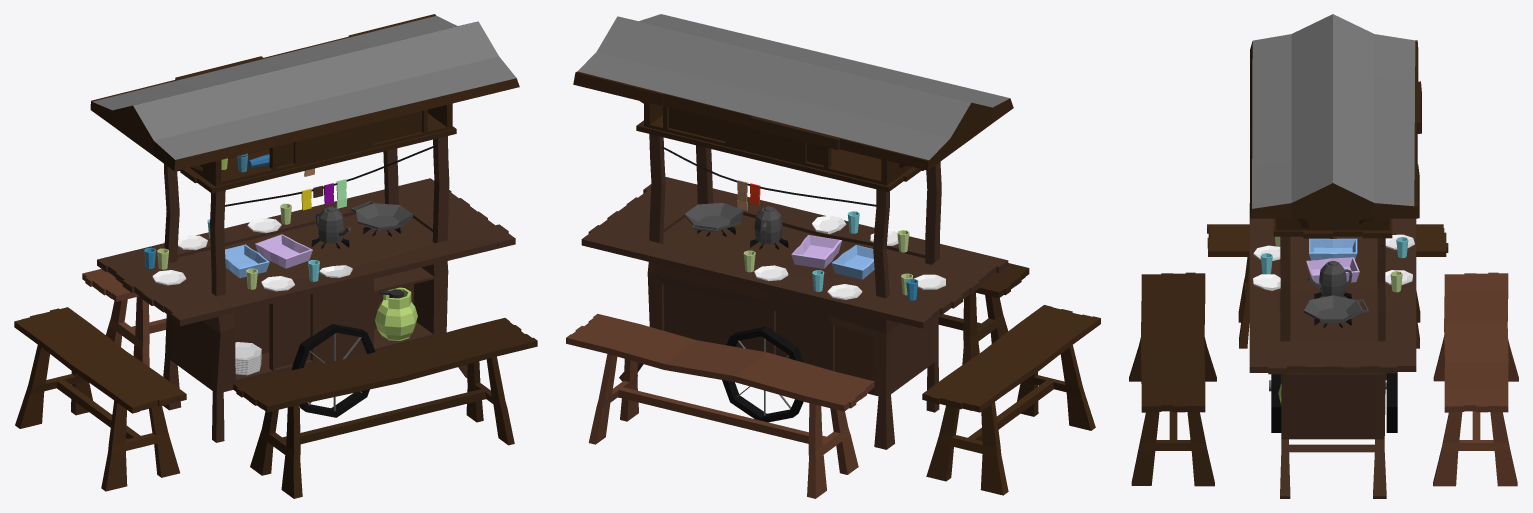
File: angkringan.fbx
3 views of the same model, side by side, from view 1: azimuth 30°, elevation 25°; view 2: azimuth 150°, elevation 25°; view 3: azimuth 270°, elevation 25° (orthographic). The views are drawn at different scales.
Parts seen in each view (by area): view 1: Cube; view 2: Cube; view 3: Cube.
Boxes of the visible parts, x1=… form: Cube: x1=14, y1=14, x2=537, y2=498; Cube: x1=566, y1=14, x2=1100, y2=498; Cube: x1=1129, y1=14, x2=1518, y2=498.
Bounding box in the file's own units: 967 × 734 × 775.
